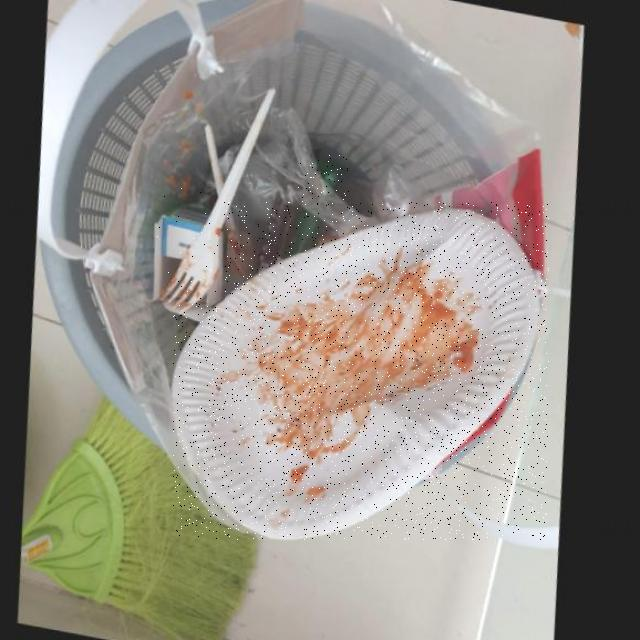paper: (173, 202, 549, 539), (158, 185, 225, 302)
wrapper: (297, 155, 349, 253)
